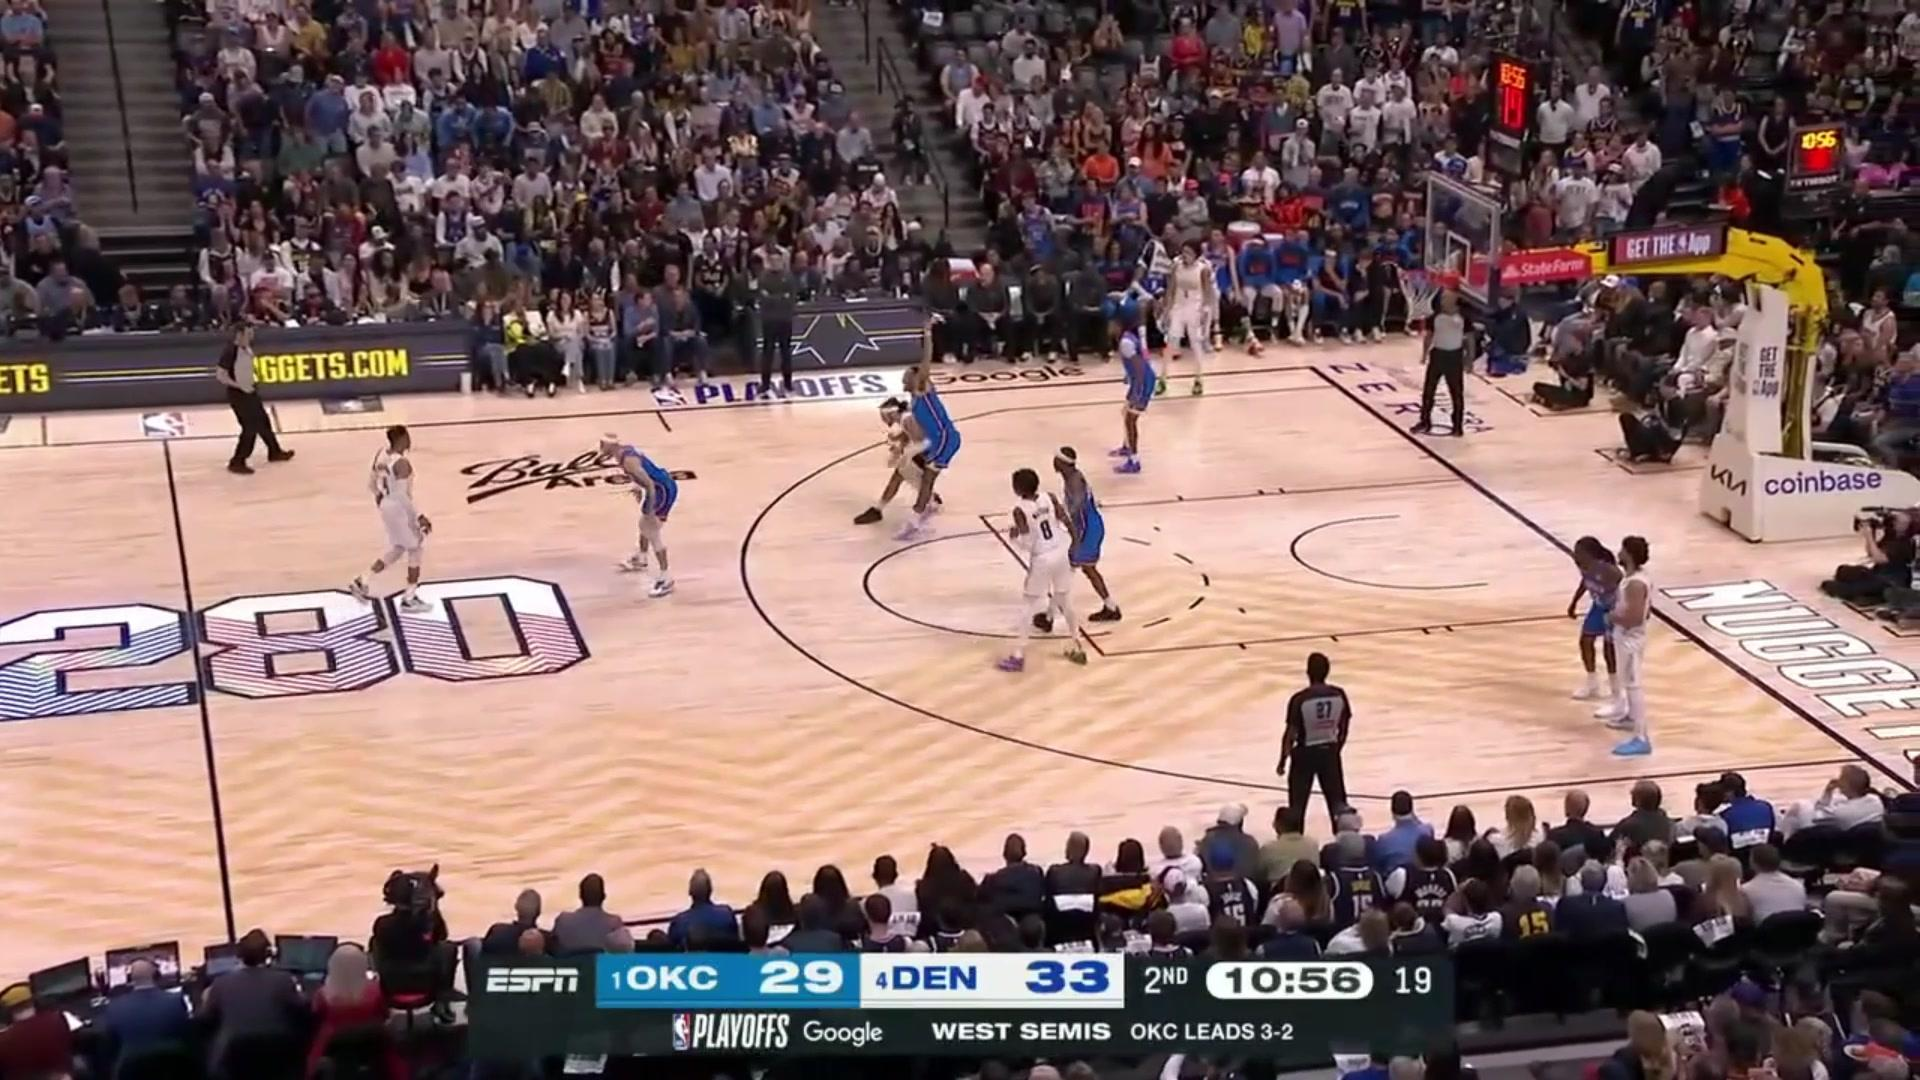foul: (852, 324, 981, 541)
